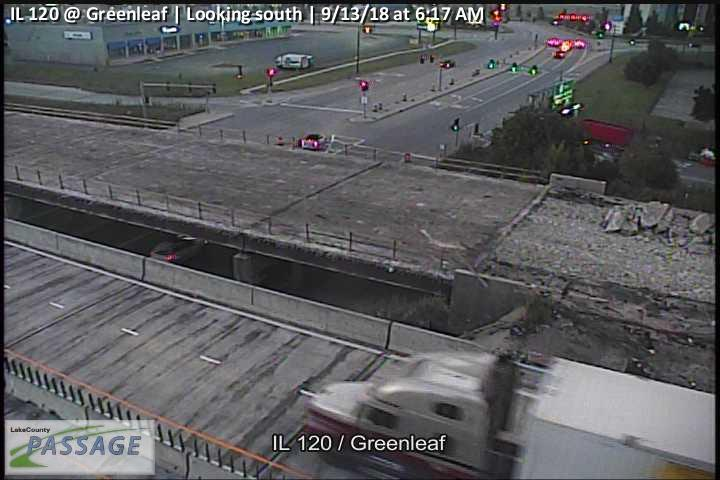Truck: (299, 346, 720, 480), (275, 53, 309, 70)
